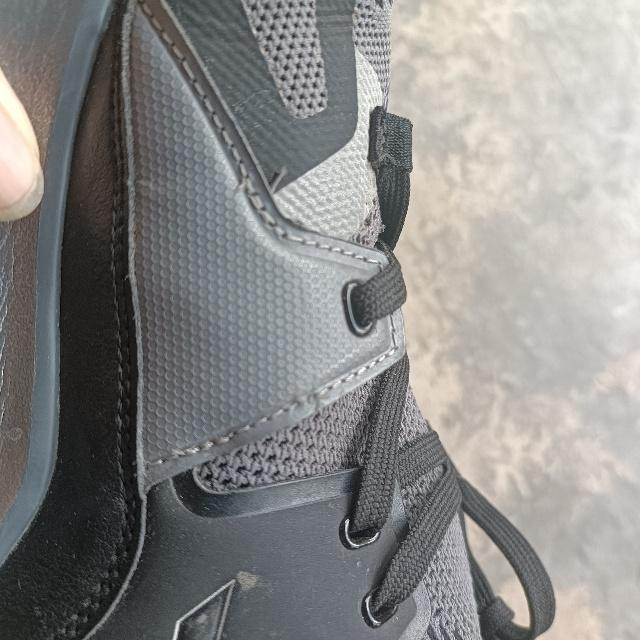broken-error: (292, 383, 330, 419)
